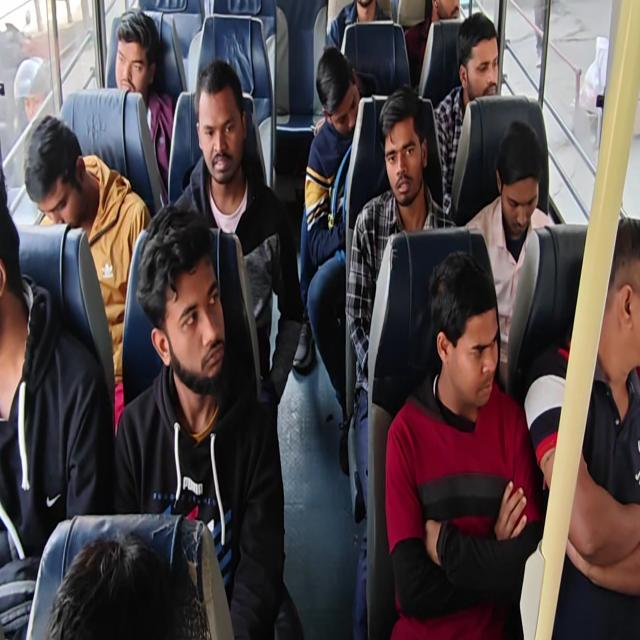person: (2, 2, 638, 638), (112, 204, 302, 638), (384, 249, 545, 638), (345, 85, 457, 638), (0, 181, 114, 638), (524, 215, 640, 638), (172, 59, 304, 415), (23, 114, 152, 436), (296, 44, 366, 474), (463, 119, 553, 392), (46, 530, 177, 639), (434, 12, 500, 217), (112, 9, 174, 193), (403, 0, 460, 89), (325, 0, 392, 52), (13, 56, 53, 130)
